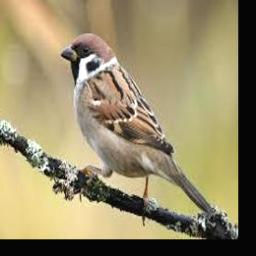Sparrow: (60, 33, 213, 222)
